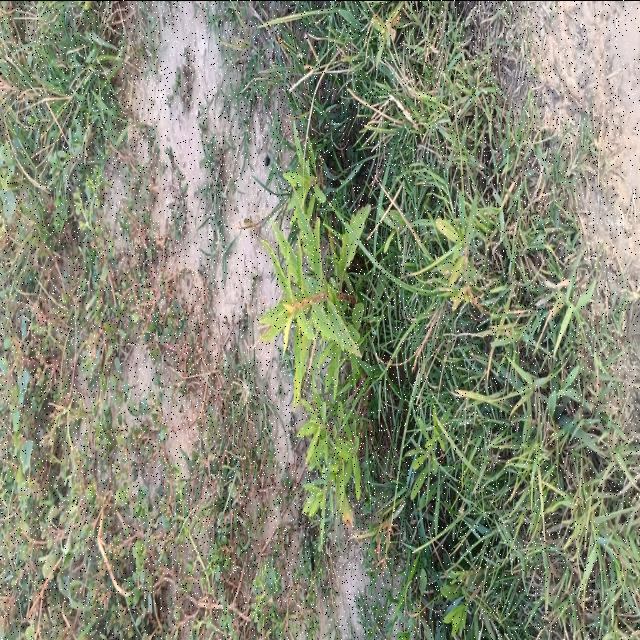plant: (260, 123, 369, 539)
